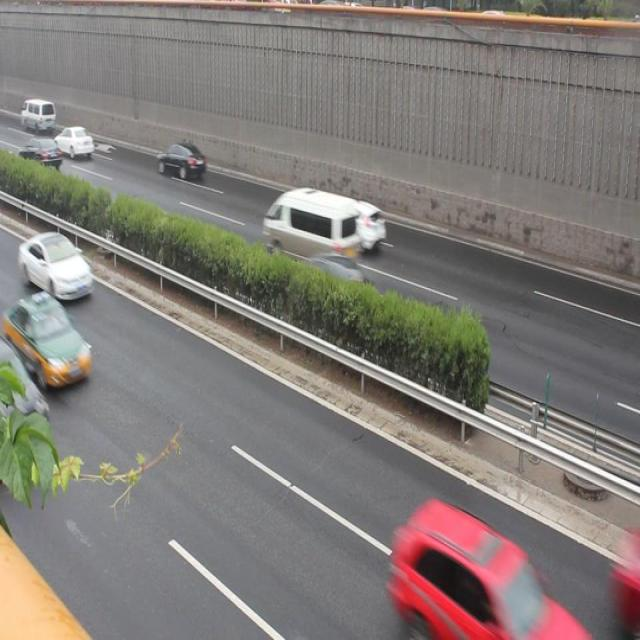car: (389, 496, 583, 640), (1, 292, 90, 387), (1, 334, 49, 455), (286, 251, 369, 316), (19, 230, 93, 300), (314, 192, 386, 255), (610, 517, 640, 627), (155, 140, 205, 181), (18, 136, 61, 174), (54, 125, 96, 163)
truck: (262, 188, 356, 269)
